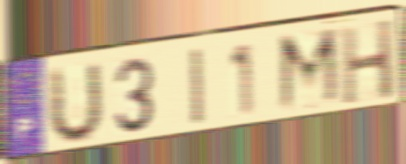1: (227, 40, 255, 120)
3: (112, 54, 156, 137)
H: (339, 15, 397, 108)
I: (188, 44, 207, 129)
M: (276, 25, 344, 117)
U: (46, 58, 105, 148)
